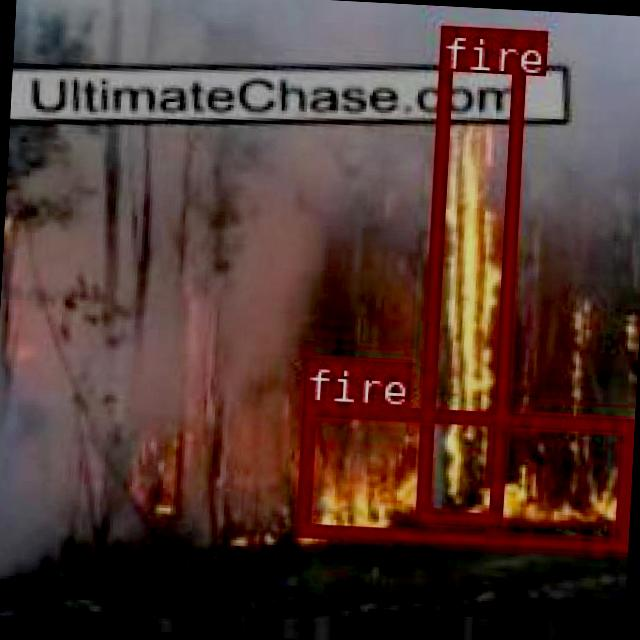fire: (413, 24, 524, 525), (293, 399, 630, 549)
